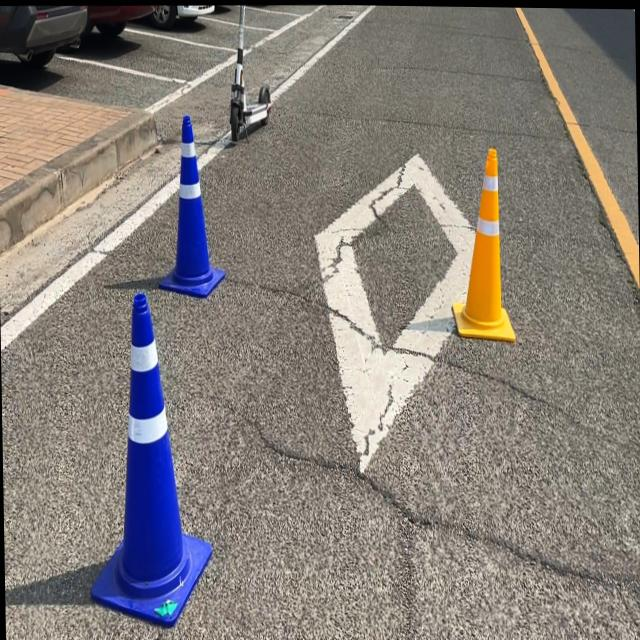b_rub: (90, 292, 211, 625), (158, 113, 225, 295)
y_rub: (453, 145, 516, 339)
